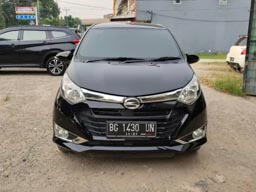plat: (107, 121, 155, 132)
